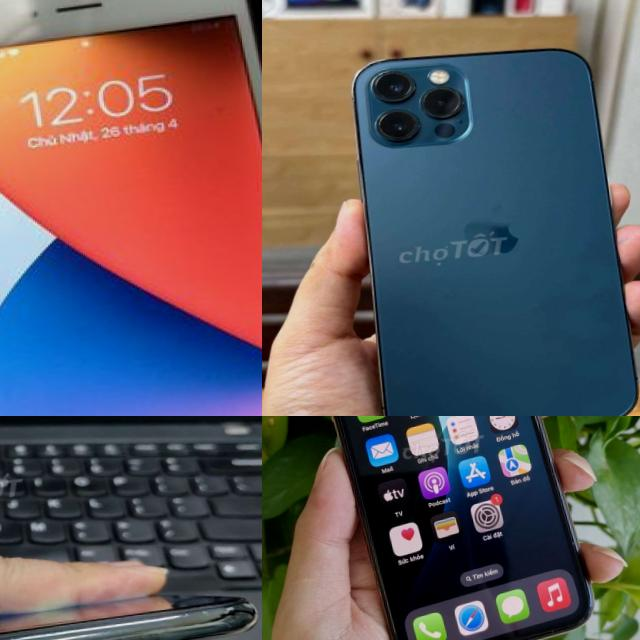gen_11: (0, 587, 262, 640)
gen_12_13: (346, 35, 640, 416)
gen_6: (0, 0, 262, 416)
gen_x_xs: (295, 416, 597, 640)
